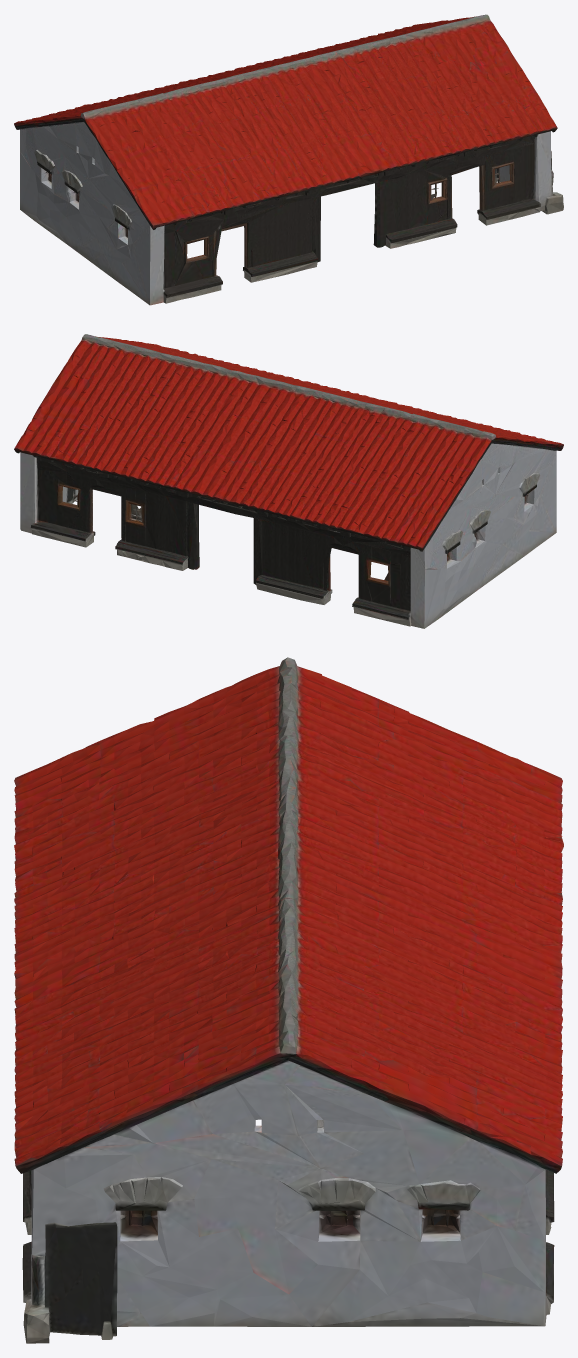
Rendered from town_house_oelhaendler_carnuntum_a.meshy.reduced.glb.
The picture shows the model from 3 angles, top to bottom: view 1: azimuth 30°, elevation 25°; view 2: azimuth 150°, elevation 25°; view 3: azimuth 270°, elevation 25°; orthographic projection. The views are drawn at different scales.
Bounding box in the file's own units: 1.87 × 0.6436 × 1.1.
Materials: 1 (1 with a texture image).
